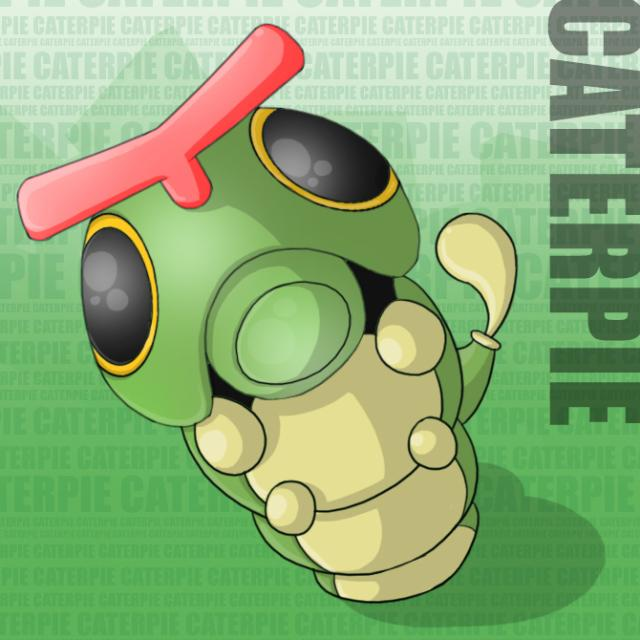Caterpie: (37, 25, 523, 611)
